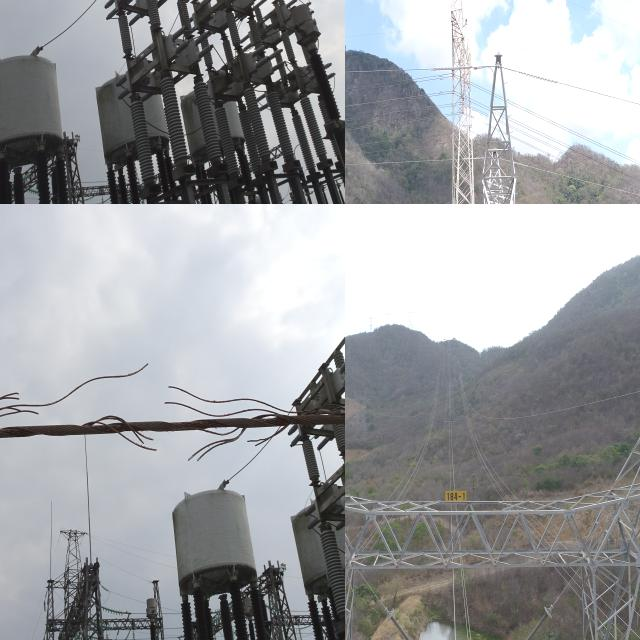杆塔: (345, 432, 640, 640), (431, 0, 499, 204), (474, 47, 529, 204)
正常绝缘子: (520, 601, 554, 640), (386, 608, 415, 640)
电缆破损: (0, 355, 319, 458)
